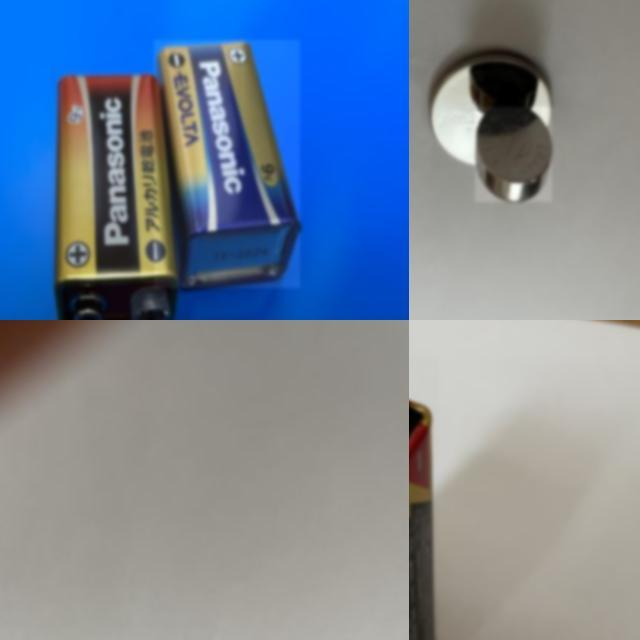9V: (155, 40, 301, 288), (51, 73, 178, 320)
